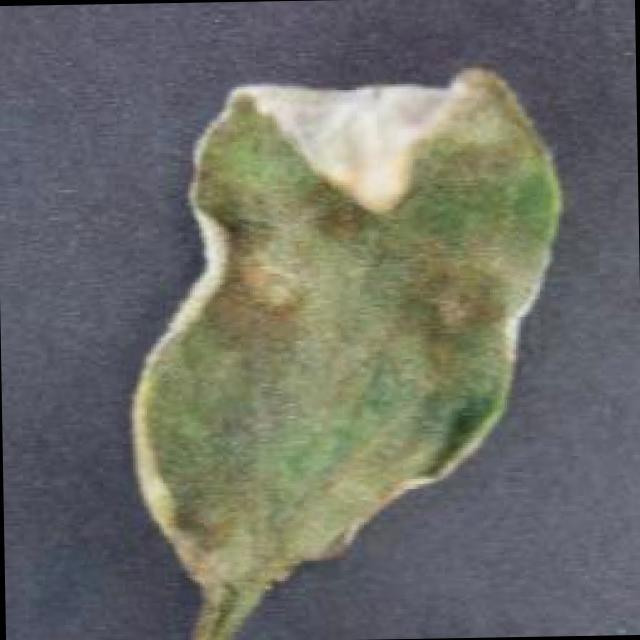Tomato late blight leaf: (118, 57, 570, 598)
